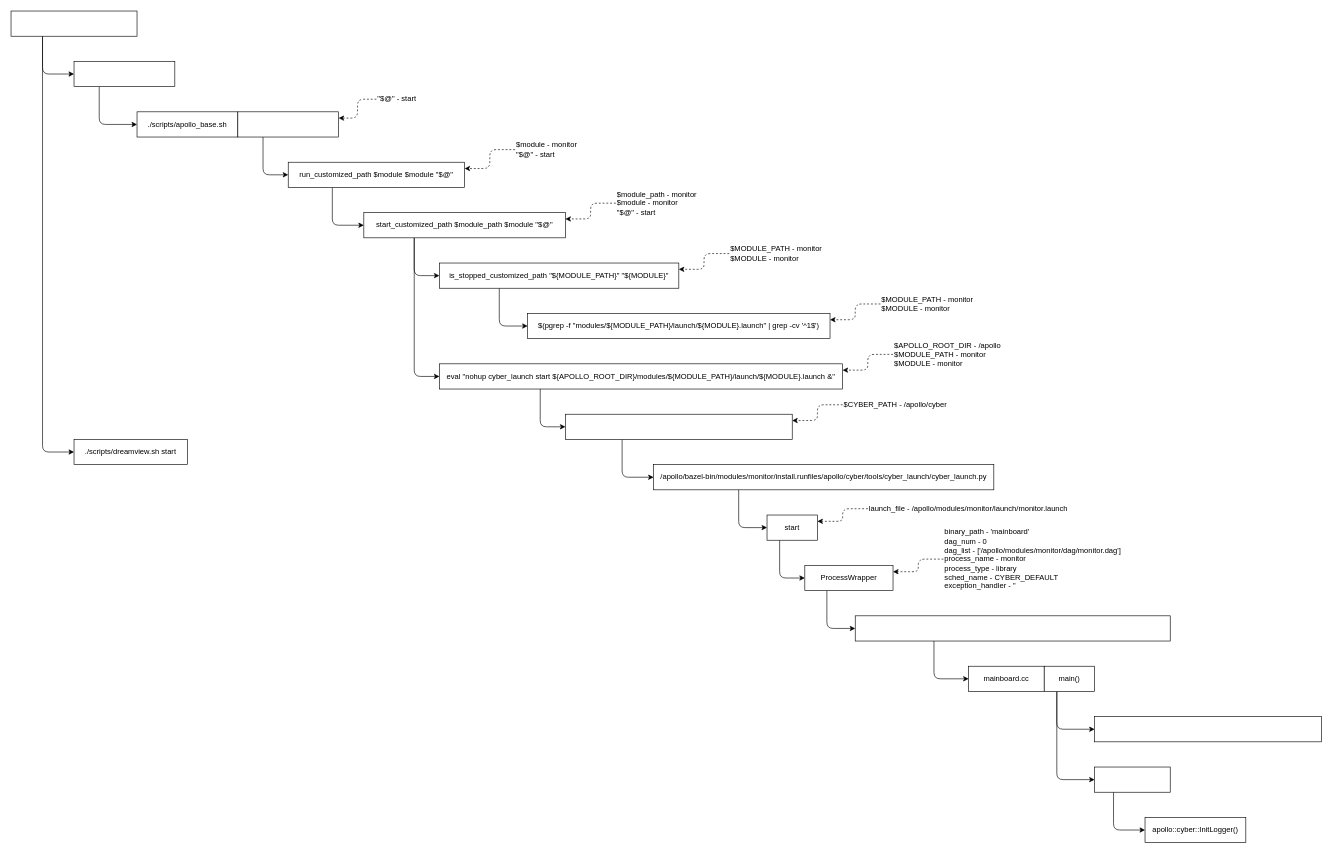
Some shapes in this 1332 by 854 pixel diagram are drawn without their labels. The centre of each missing label's shape, as x and y in pixels:
./scripts/bootstrap.sh start: point 73,23
./scripts/monitor.sh start: point 124,74
/apollo/bazel-bin/cyber/tools/cyber_launch/cyber_launch: point 678,426
apollo::cyber::Init(): point 1132,779
apollo::cyber::mainboard::ModuleArgument::ParseArgument(): point 1207,729
mainboard -d /apollo/modules/monitor/dag/monitor.dag -p monitor -s CYBER_DEFAULT: point 1012,628
run_module monitor "$@": point 288,124
